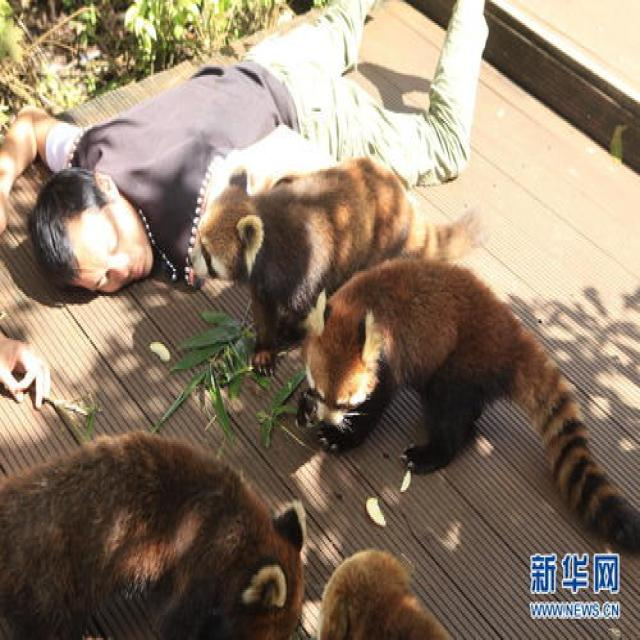Fall: (0, 0, 488, 319)
